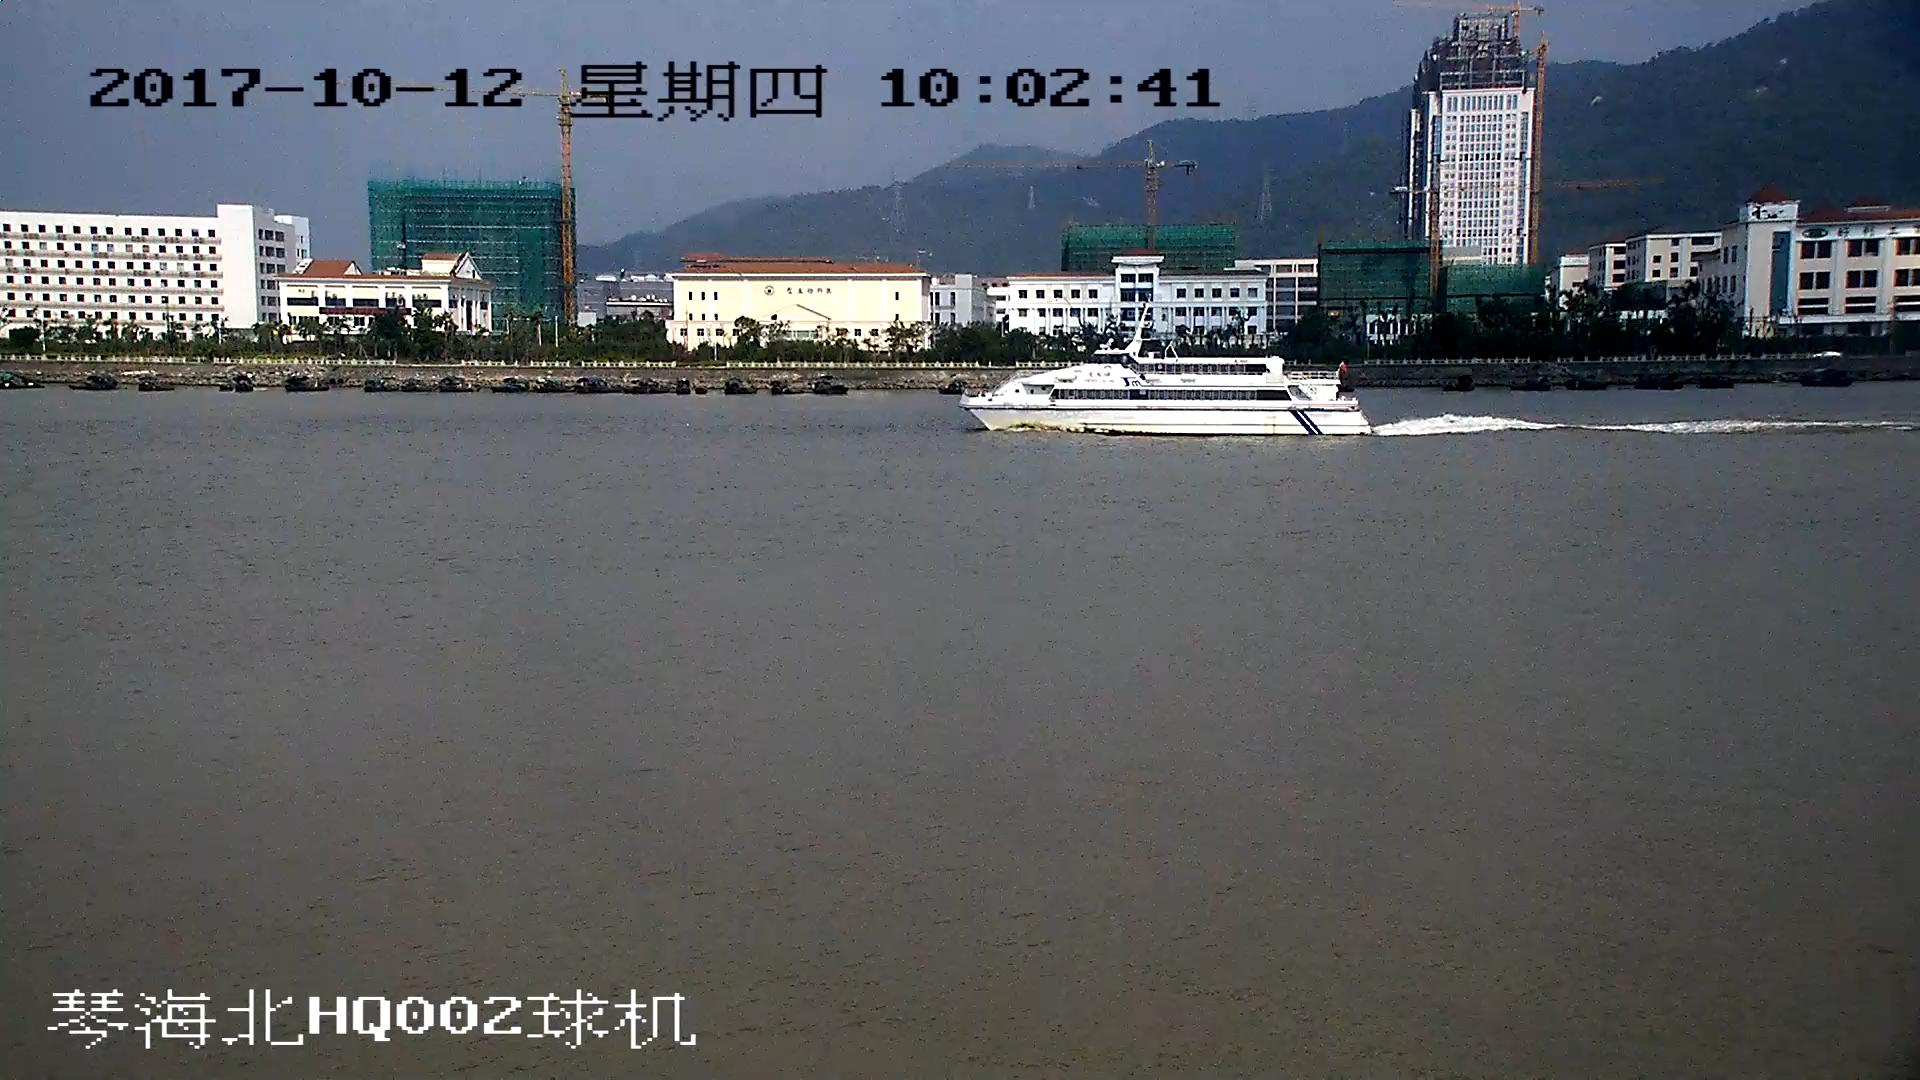passenger ship: (968, 299, 1364, 438)
